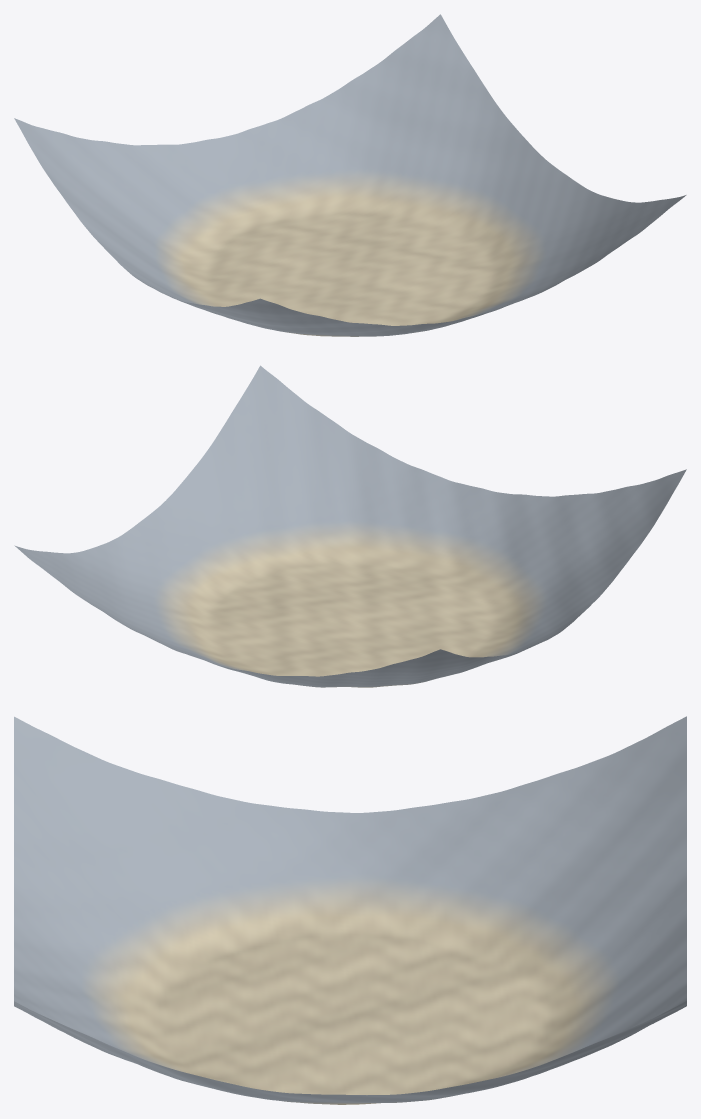
The model's file is seabed.glb.
3 renders of one model, top to bottom at view 1: azimuth 30°, elevation 25°; view 2: azimuth 150°, elevation 25°; view 3: azimuth 270°, elevation 25°, orthographic. The views are drawn at different scales.
Visible parts, largest first — view 1: Sand; view 2: Sand; view 3: Sand.
Part boxes in pixels (bbox=[...]): Sand: bbox=[14, 14, 686, 336]; Sand: bbox=[14, 365, 686, 687]; Sand: bbox=[14, 716, 686, 1104].
Bounding box in the file's own units: 260 × 68.71 × 260.
